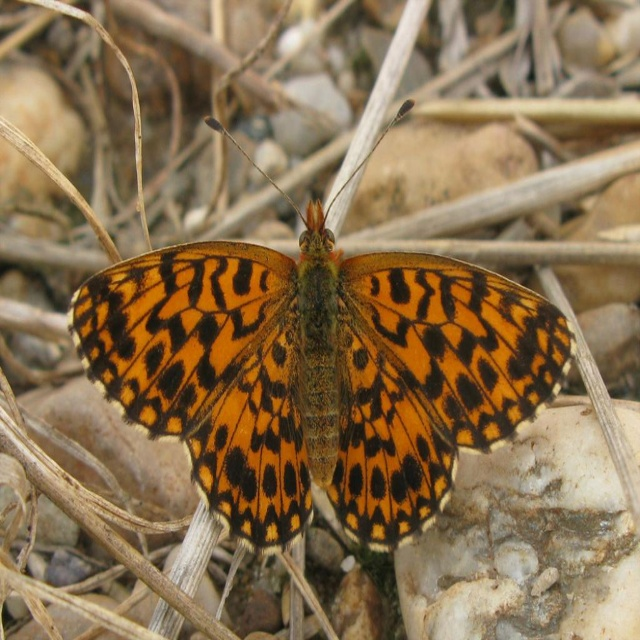Butterfly: (68, 77, 607, 563)
